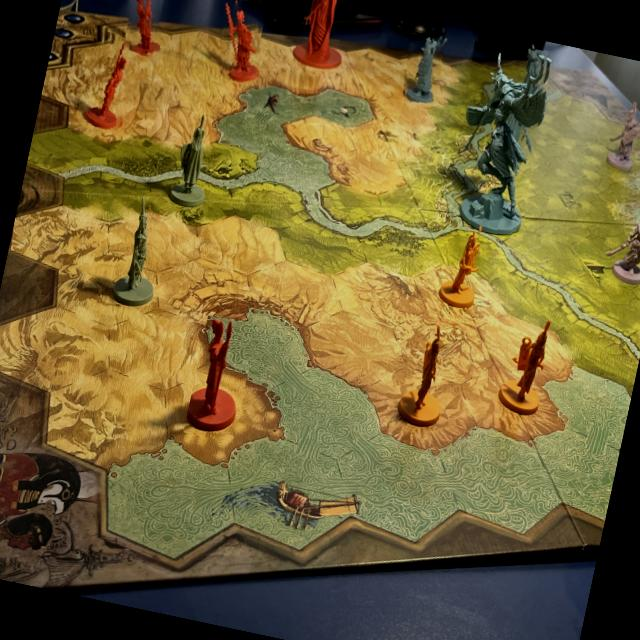amon: (118, 0, 171, 55)
amon_follower: (182, 314, 258, 442), (76, 31, 146, 134), (208, 0, 271, 86)
isis: (439, 36, 557, 240)
isis_follower: (398, 29, 450, 106)
